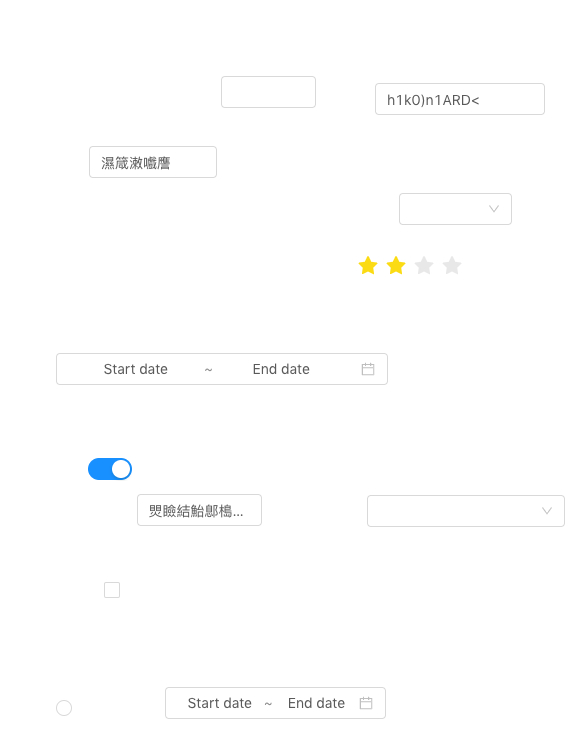Checkbox: (104, 579, 120, 600)
Input: (375, 83, 545, 115), (89, 146, 217, 178), (137, 494, 262, 526), (221, 76, 316, 108)
Radio: (56, 697, 72, 717)
RangePicker: (56, 353, 424, 385), (165, 687, 386, 719)
Rate: (358, 249, 478, 281)
Select: (367, 495, 565, 527), (399, 193, 512, 225)
Switch: (88, 457, 132, 481)
